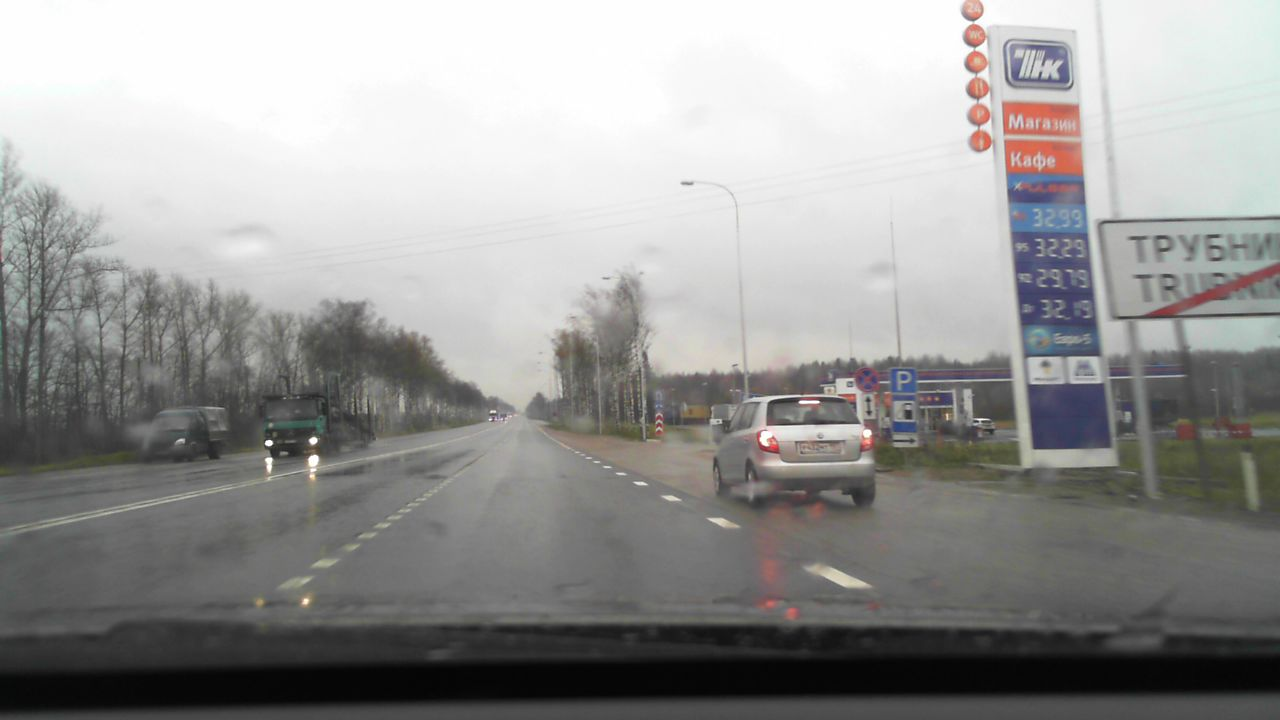No Parking: (854, 367, 878, 392)
